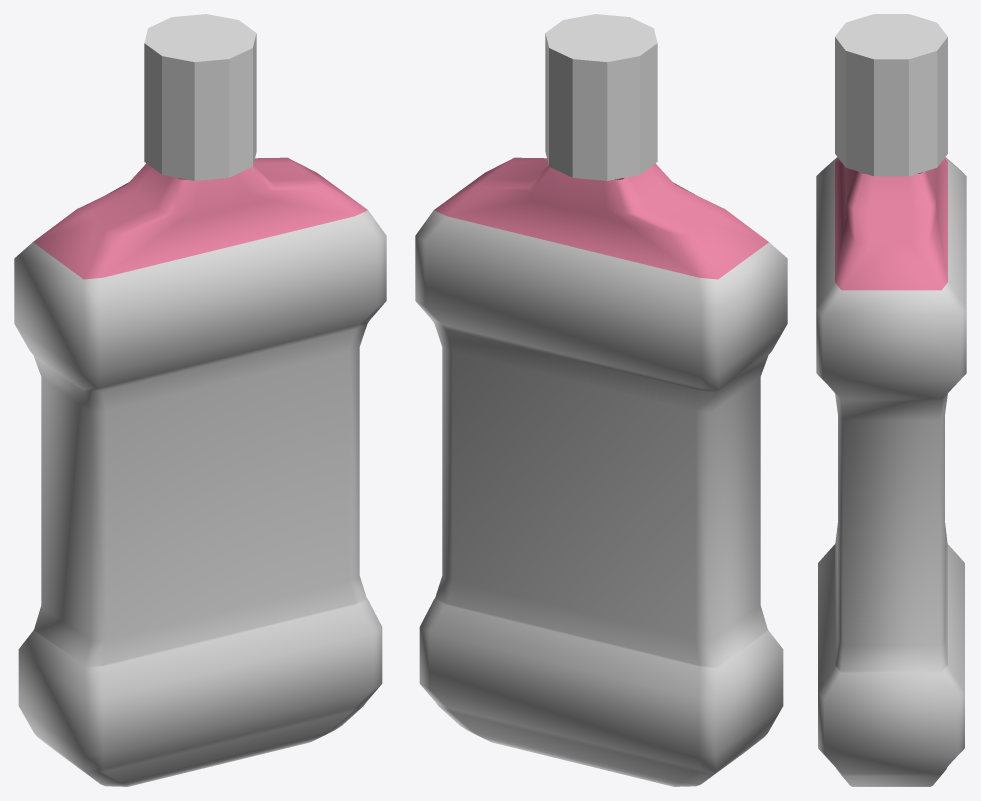
File: Mouthwash.fbx
The picture shows the model from 3 angles, left to right: view 1: azimuth 30°, elevation 25°; view 2: azimuth 150°, elevation 25°; view 3: azimuth 270°, elevation 25°; orthographic projection.
Parts seen in each view (by area): view 1: Bottle, Cap; view 2: Bottle, Cap; view 3: Bottle, Cap.
Boxes of the visible parts, x1=… form: Bottle: x1=14, y1=157, x2=386, y2=786; Cap: x1=144, y1=14, x2=256, y2=180; Bottle: x1=415, y1=157, x2=787, y2=786; Cap: x1=545, y1=14, x2=657, y2=180; Bottle: x1=816, y1=157, x2=966, y2=786; Cap: x1=835, y1=14, x2=947, y2=176.
Bounding box in the file's own units: 2.13 × 4.8 × 0.9333.
